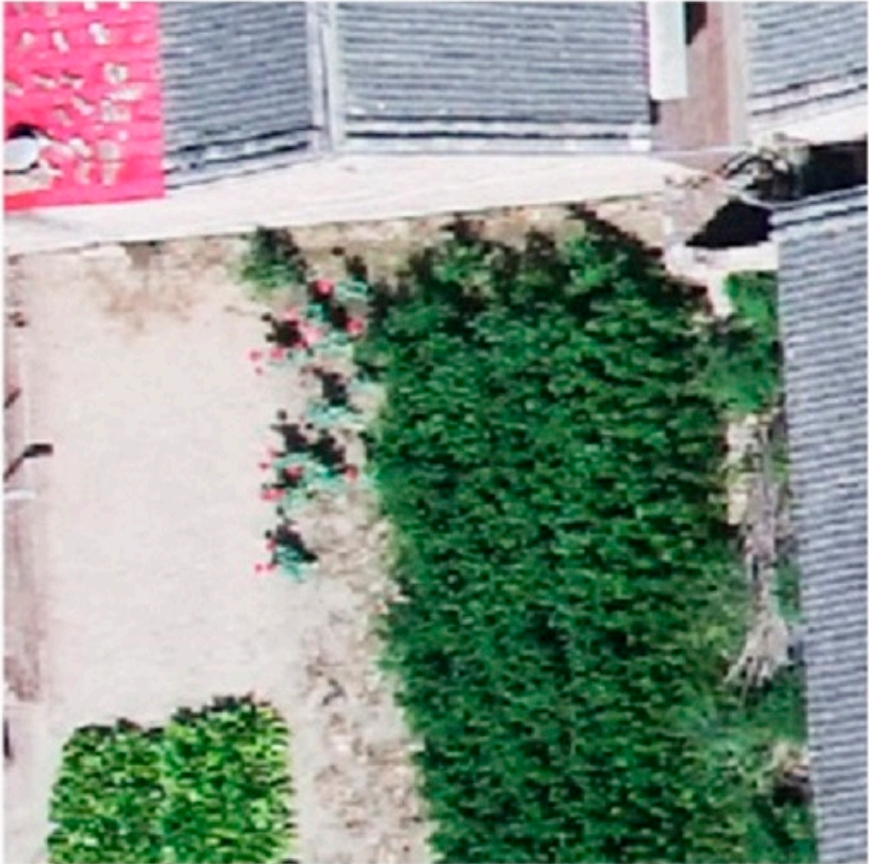Poppy: (217, 265, 379, 589)
